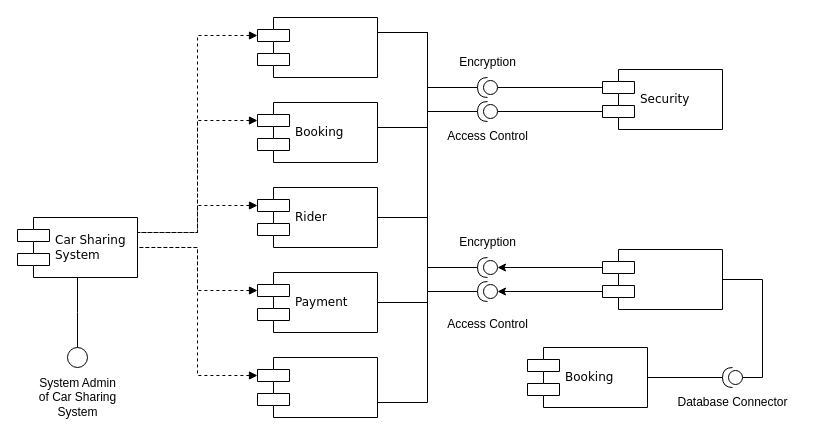
Image size: 815x445. Some labels were removed from this diagram. Each missing label, with the centre of its shape:
Car: pixel 317 47
Insurance: pixel 317 387
Persistence: pixel 662 279
